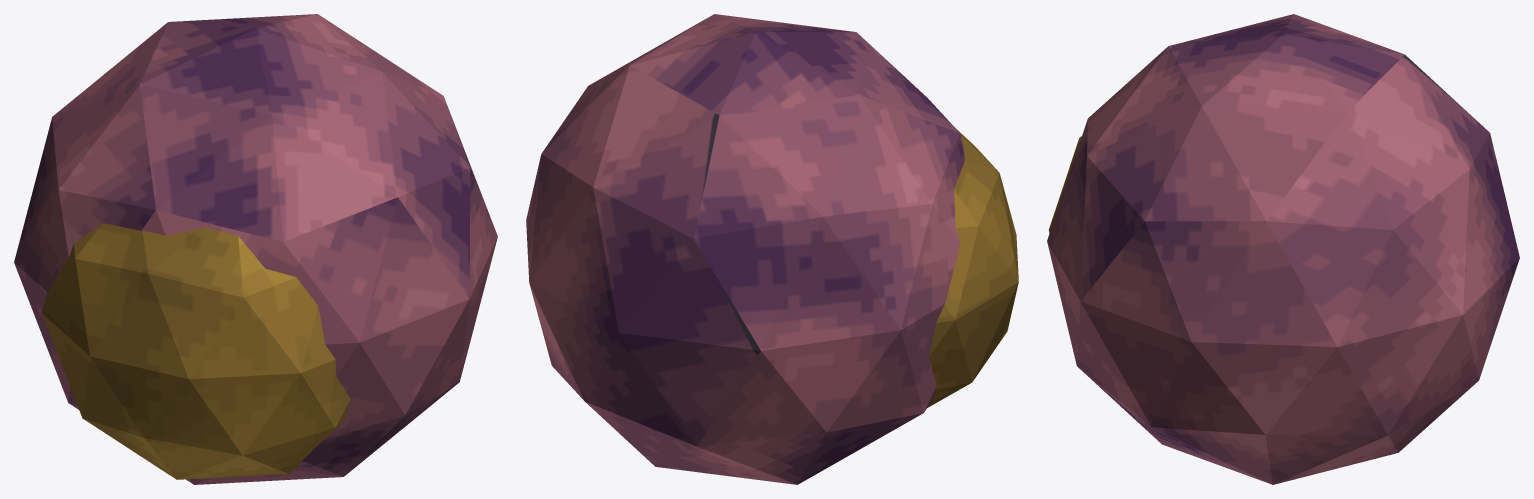
Rendered from Nervenzelle.fbx.
The picture shows the model from 3 angles, left to right: view 1: azimuth 30°, elevation 25°; view 2: azimuth 150°, elevation 25°; view 3: azimuth 270°, elevation 25°; orthographic projection. The views are drawn at different scales.
Parts seen in each view (by area): view 1: Nervenzelle; view 2: Nervenzelle; view 3: Nervenzelle.
Part boxes in pixels (<box>): Nervenzelle: <box>14,14,497,484</box>; Nervenzelle: <box>526,14,1018,484</box>; Nervenzelle: <box>1047,14,1519,484</box>.
Size of the model in its own units: 53.34 by 53.19 by 53.37.
Materials: 1 (1 with a texture image).
